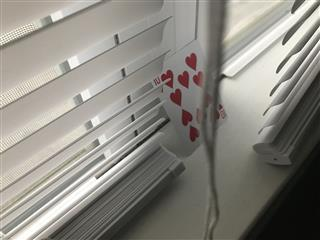TenOfHearts: (150, 38, 228, 155)
